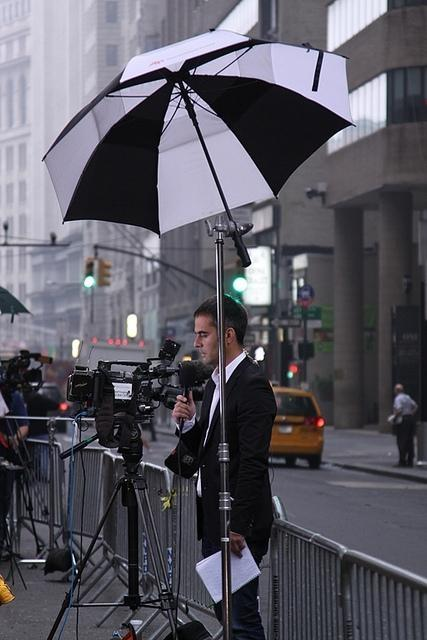car: (266, 386, 326, 470), (38, 382, 68, 433)
